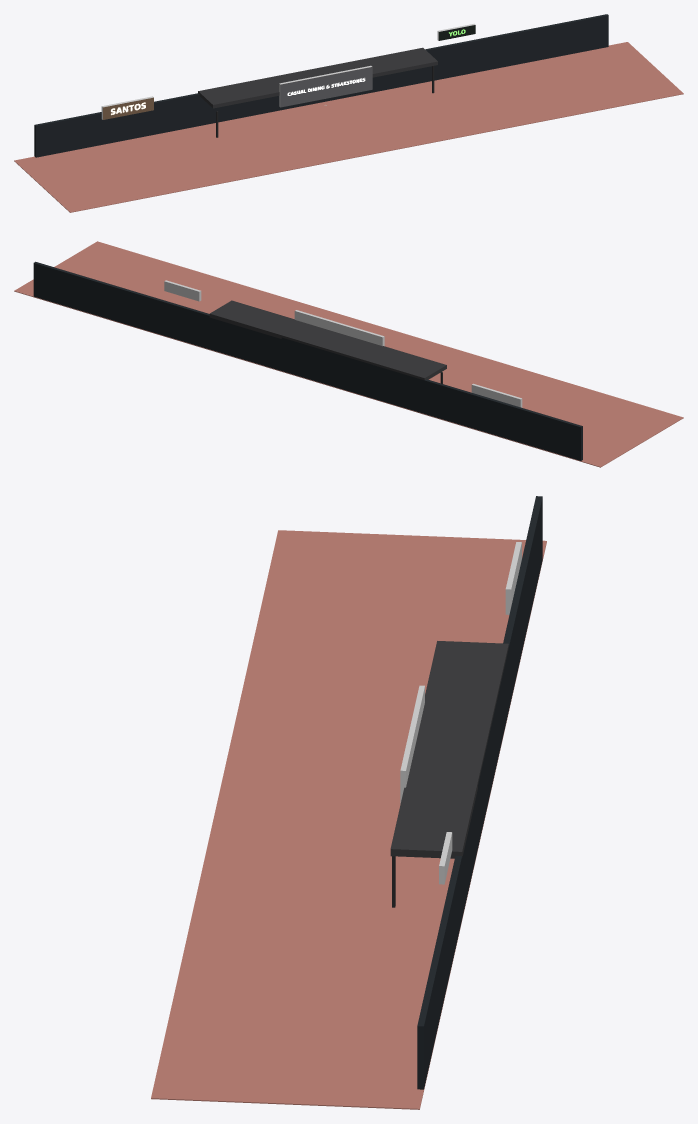
The model's file is pb_cove_shops.glb.
3 views of the same model, one above another, from view 1: azimuth 30°, elevation 25°; view 2: azimuth 150°, elevation 25°; view 3: azimuth 270°, elevation 25° (orthographic). The views are drawn at different scales.
Visible parts, largest first — view 1: pb_cove_shops_lod0; view 2: pb_cove_shops_lod0; view 3: pb_cove_shops_lod0.
Boxes of the visible parts, x1=… form: pb_cove_shops_lod0: x1=14, y1=14, x2=683, y2=212; pb_cove_shops_lod0: x1=14, y1=241, x2=683, y2=467; pb_cove_shops_lod0: x1=151, y1=496, x2=546, y2=1109.
Size of what is drawn, in the model's own units: 60.86 by 5.3 by 17.6.
8 materials, 1 textured.
